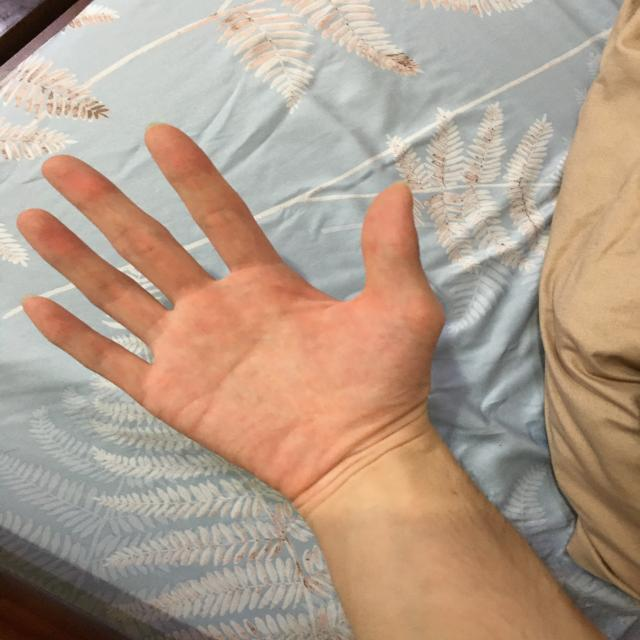hand: (11, 106, 453, 522)
